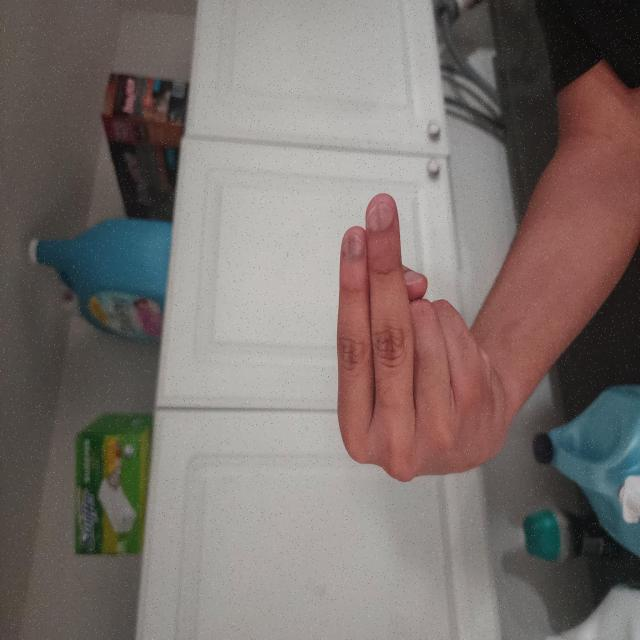H: (113, 442, 340, 640)
